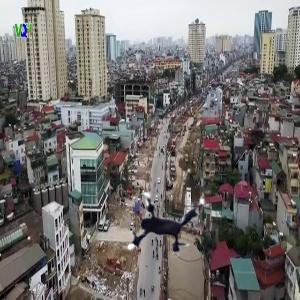drone: (108, 165, 216, 273)
